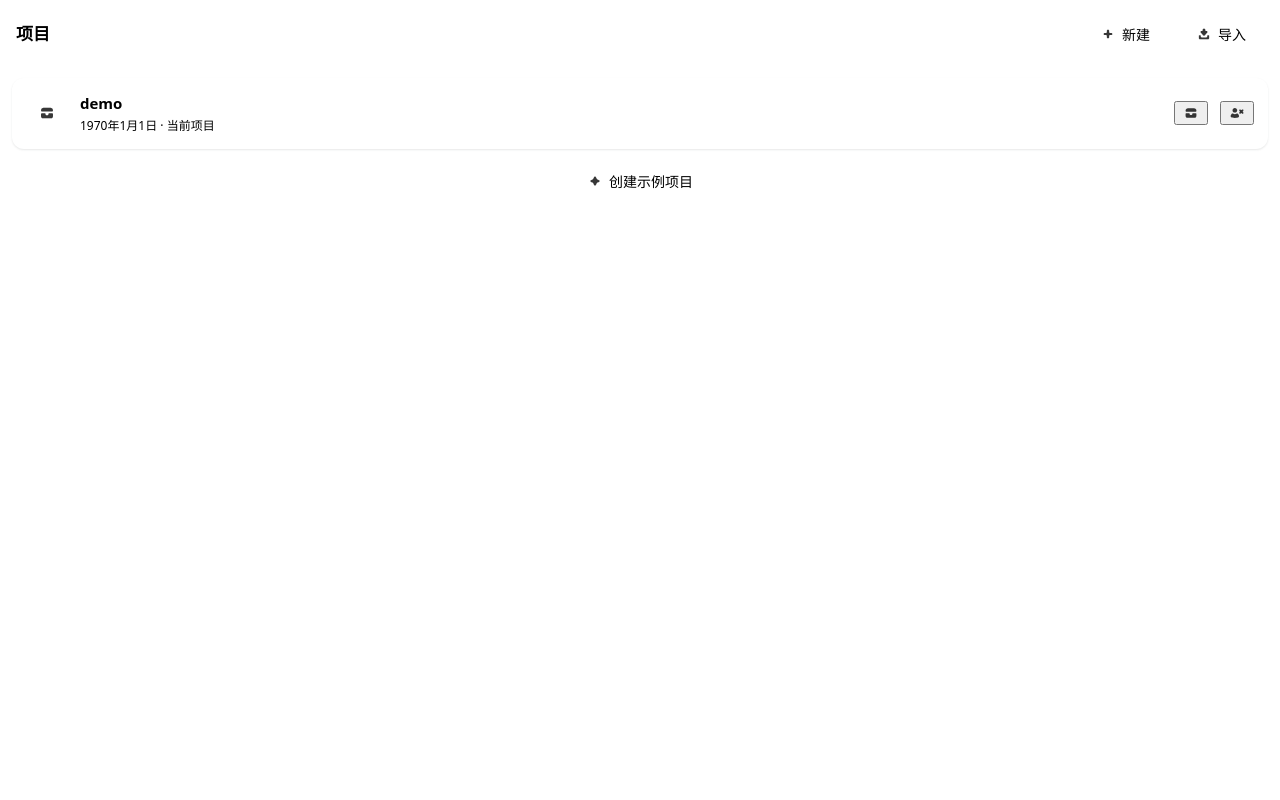
项目页：删除 › 取消确认时项目与目录都不动
Click the button named "删除 demo": {"x": 1237, "y": 113} [1220, 101, 1254, 125]
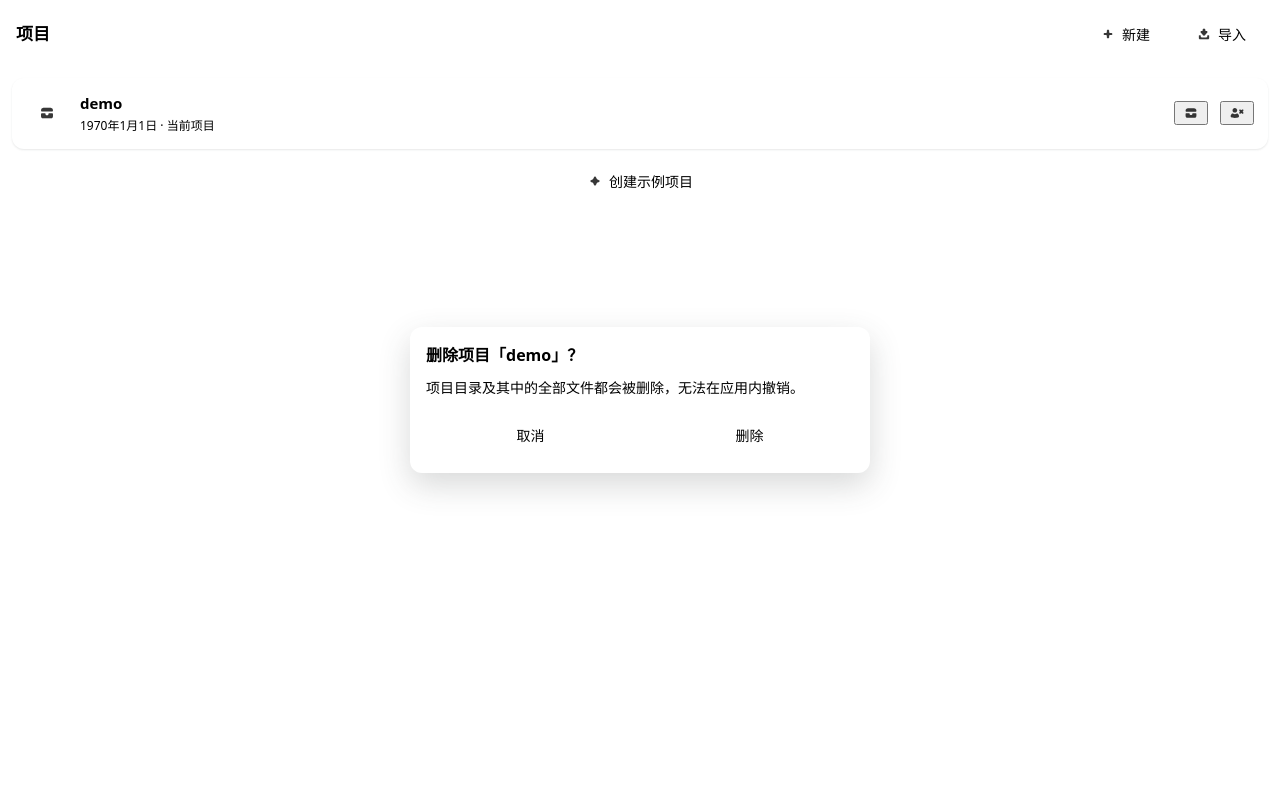
Click the button "取消": {"x": 530, "y": 435} [426, 413, 635, 457]
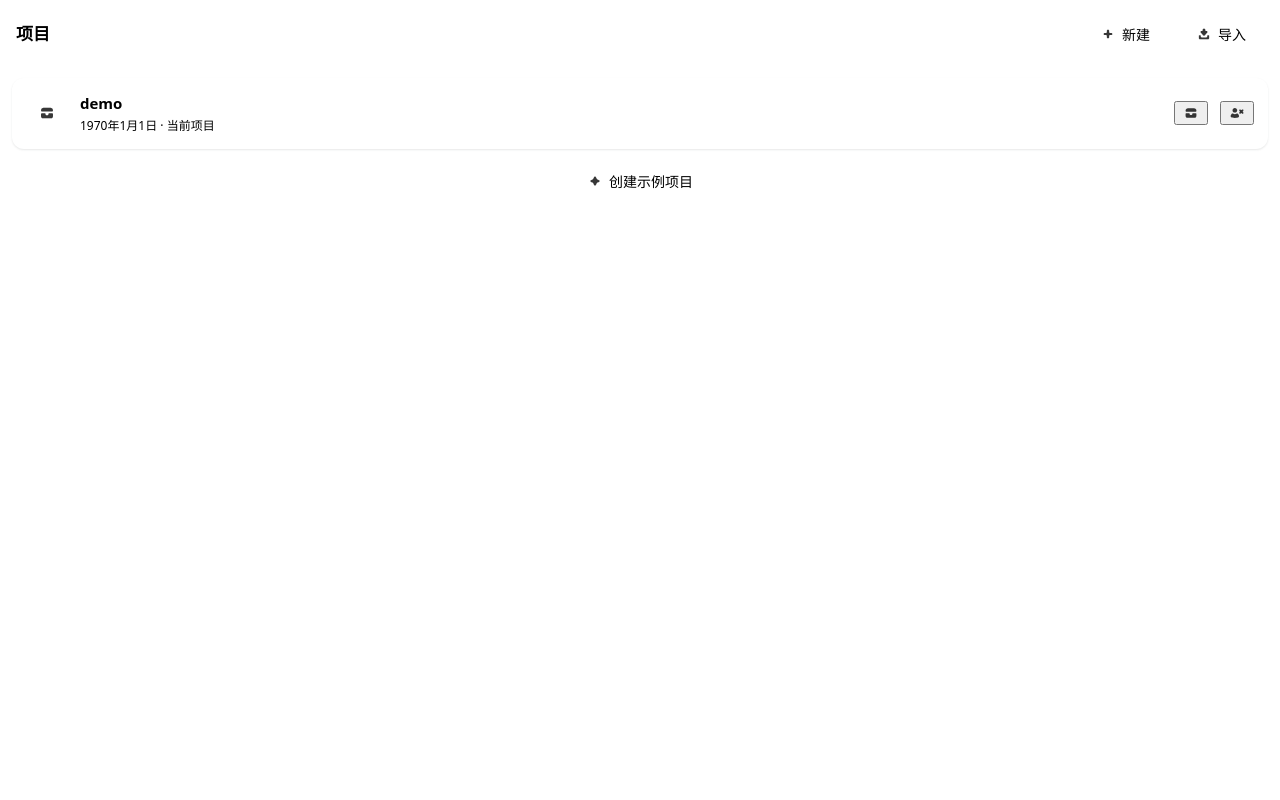
Result: the heading "删除项目「demo」？" is gone
